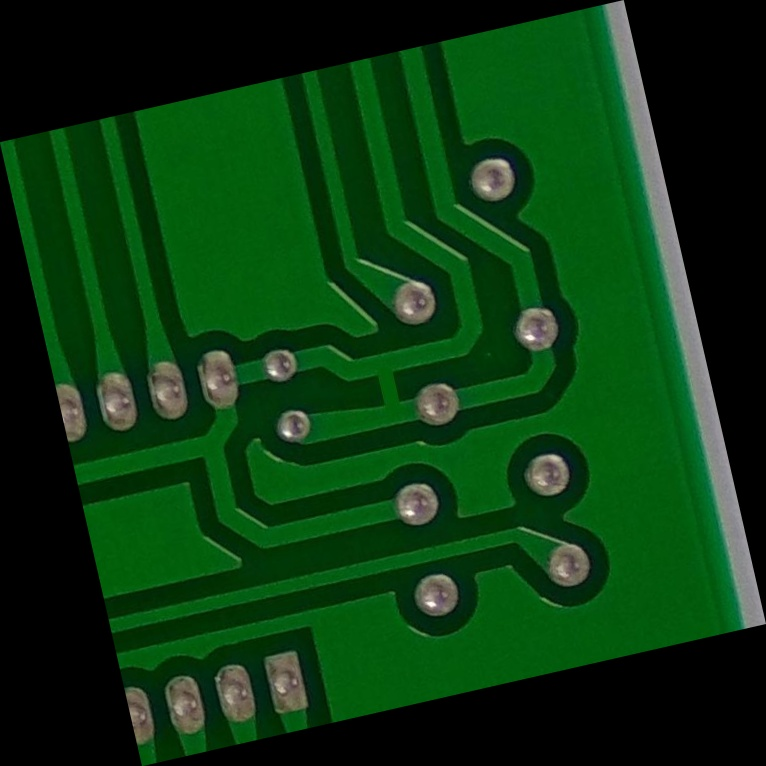short: (342, 335, 425, 430)
